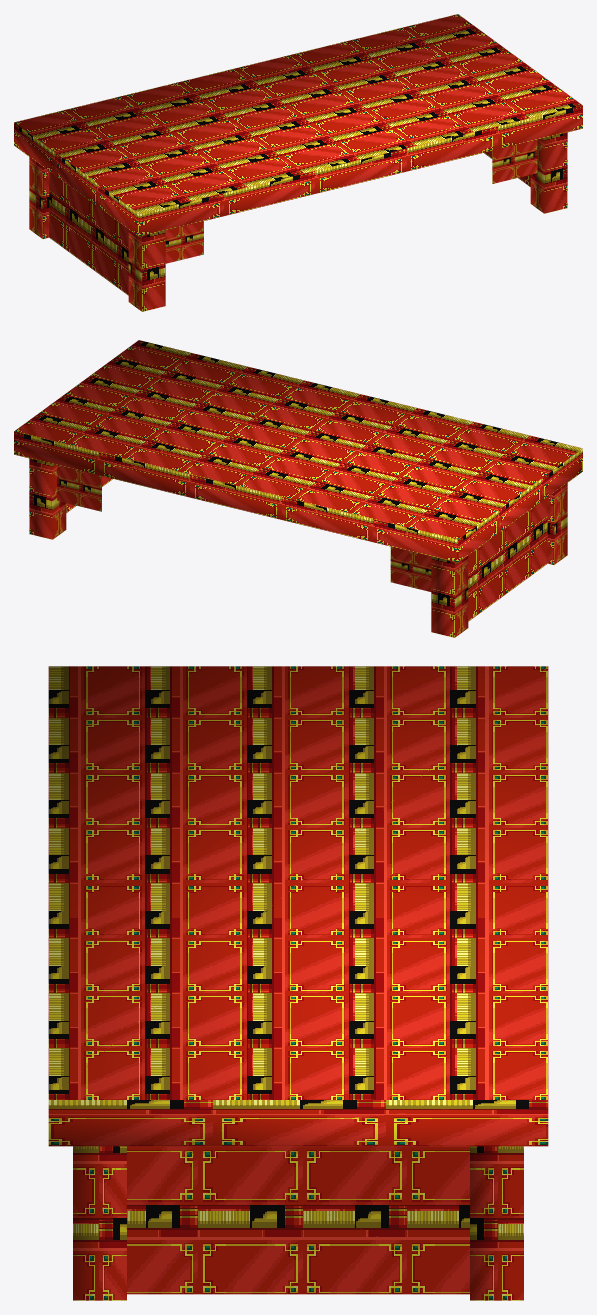
The model's file is 3097IMRL07_06.gltf.
3 views of the same model, one above another, from view 1: azimuth 30°, elevation 25°; view 2: azimuth 150°, elevation 25°; view 3: azimuth 270°, elevation 25° (orthographic). The views are drawn at different scales.
Parts seen in each view (by area): view 1: 3097IMRL07_06; view 2: 3097IMRL07_06; view 3: 3097IMRL07_06.
Part boxes in pixels (x1,y1,x2,y2): 3097IMRL07_06: [14, 14, 582, 311]; 3097IMRL07_06: [14, 340, 582, 637]; 3097IMRL07_06: [48, 666, 548, 1300].
Size of the model in its own units: 1.95 by 0.4399 by 0.9502.
1 material, 1 textured.
